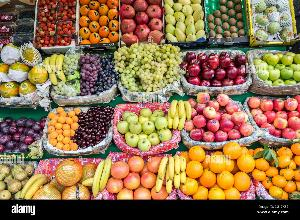apple: (184, 92, 252, 136), (116, 104, 174, 150), (181, 50, 249, 88), (244, 98, 300, 138), (252, 48, 300, 86)
apricot: (47, 103, 82, 153)
grape: (115, 43, 182, 101), (53, 48, 113, 98)
kiwi: (205, 0, 249, 46)
orange: (183, 140, 256, 202), (109, 156, 171, 200), (256, 140, 300, 199)
pear: (165, 1, 205, 42), (0, 160, 34, 200)
plum: (0, 108, 46, 154)
pomegranate: (120, 0, 166, 42)
strawberry: (35, 0, 77, 46)
